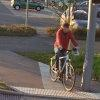bicycles: (49, 47, 80, 91)
